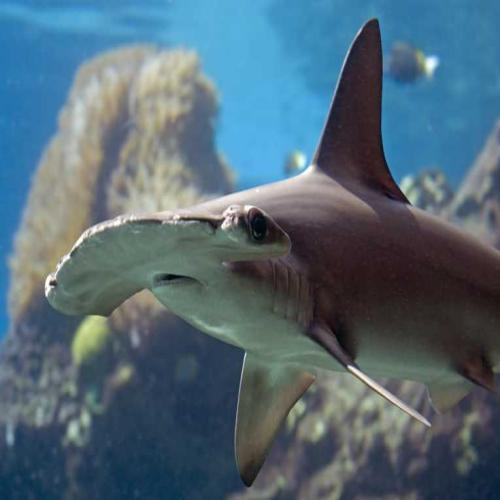shark-endangered: (45, 22, 493, 477)
